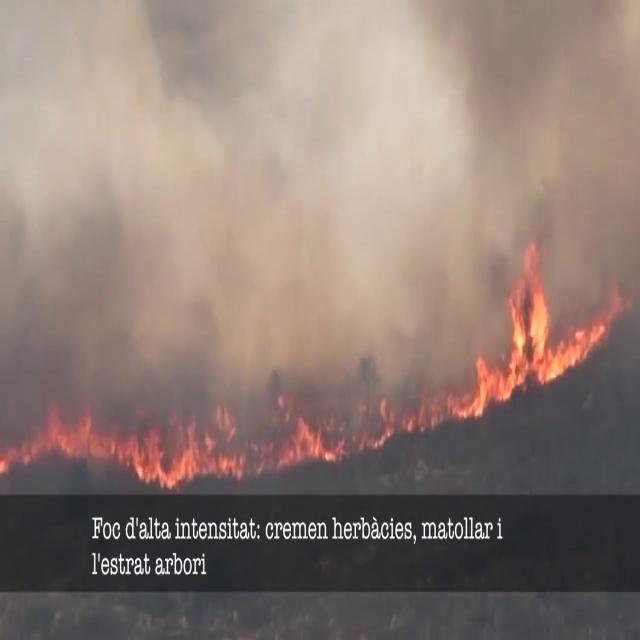Fire: (0, 396, 246, 488), (504, 254, 618, 391), (369, 350, 506, 437), (276, 404, 348, 471)
Smoke: (0, 0, 363, 446), (421, 0, 640, 385)
